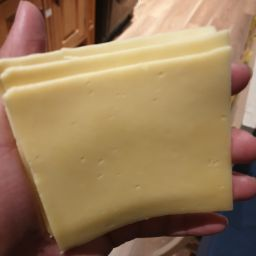Cheddar cheese: (3, 38, 248, 251), (4, 28, 242, 110)
